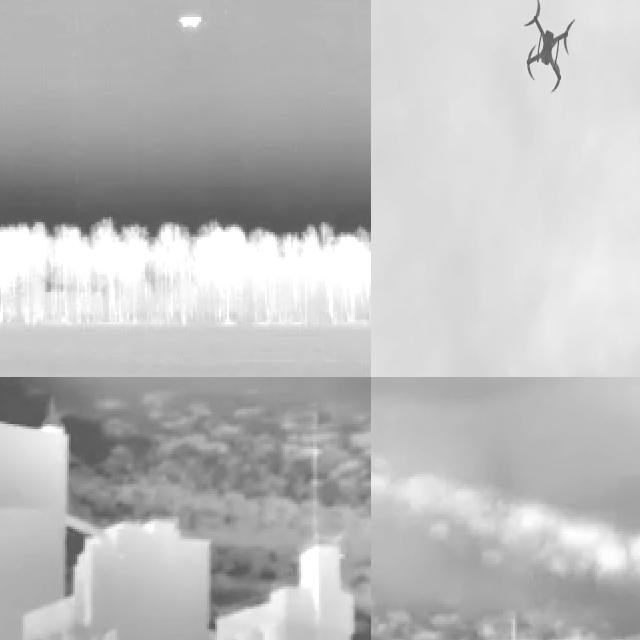1: (166, 7, 210, 39)
drone: (517, 0, 577, 102)
